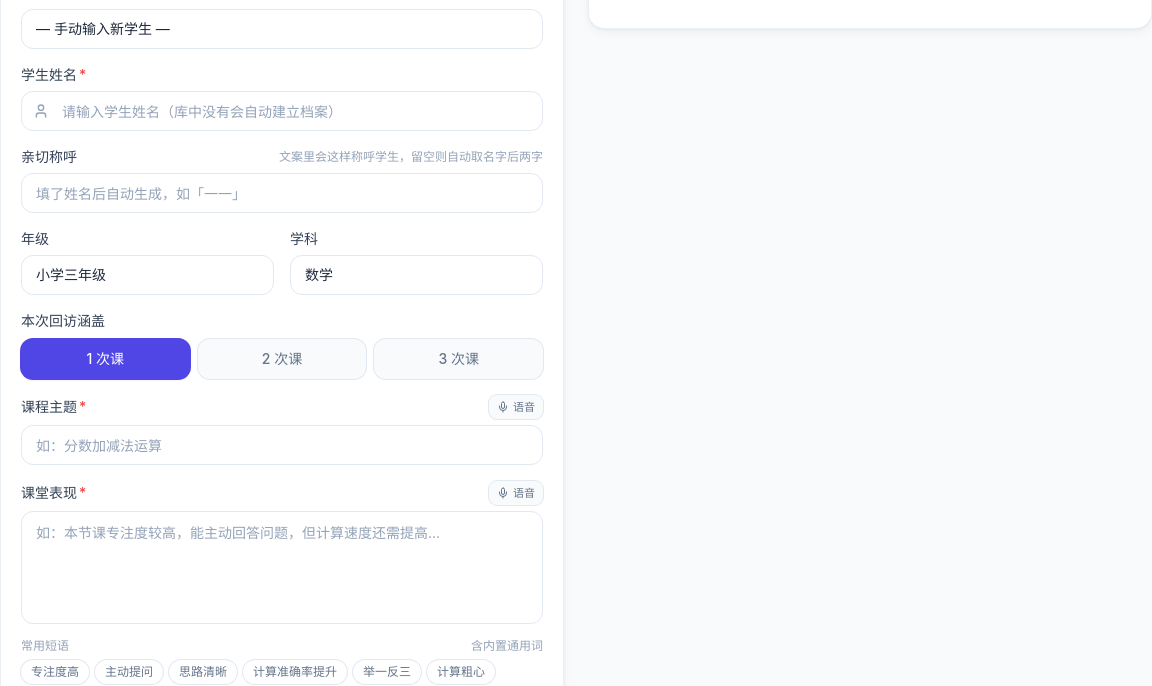
Scenario: 课后回访 · 课次选择器 › 切回 1 次课提示消失
(page scrolled)
Click the button "3 次课" at (459, 359), box [374,339,543,379]
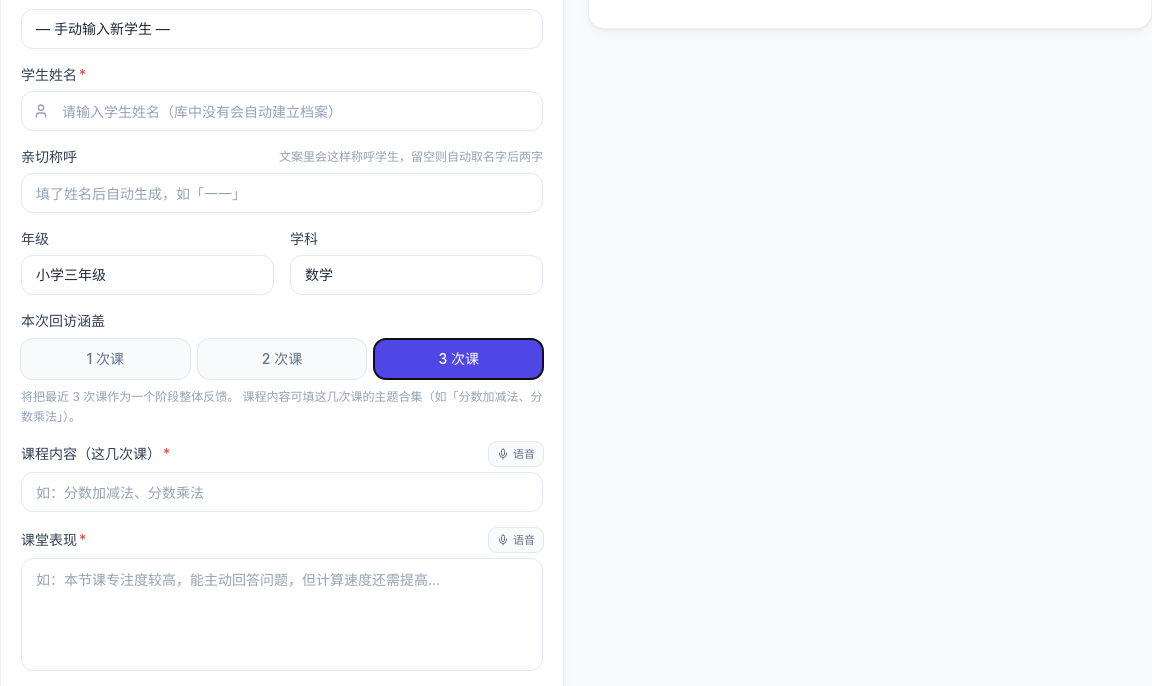
Expected: the text "将把最近 3 次课作为一个阶段整体反馈。 课程内容可填这几次课的主题合集（如「分数加减法、分数乘法」）。" is shown, [21,387,543,426]
Click the button "1 次课" at (105, 359), box [21,339,190,379]
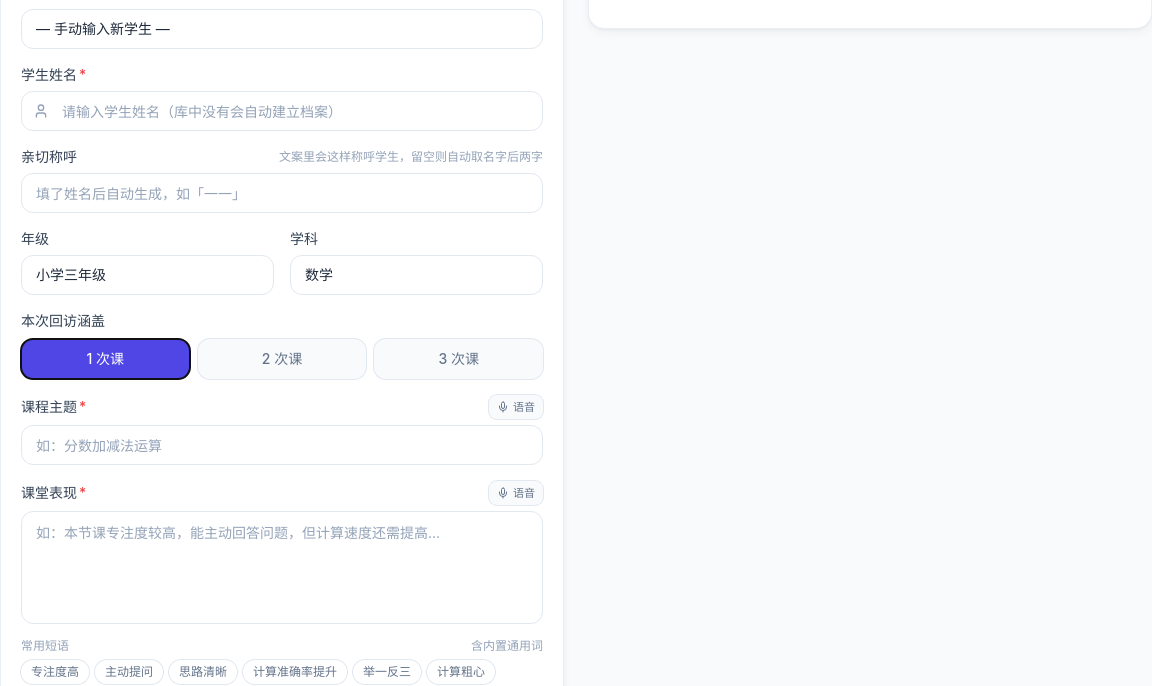
Expected: the text "作为一个阶段整体反馈" is gone
